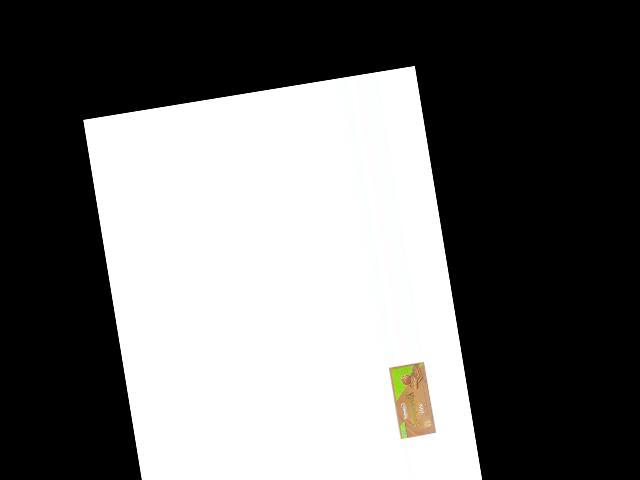chocolate: (387, 360, 439, 442)
